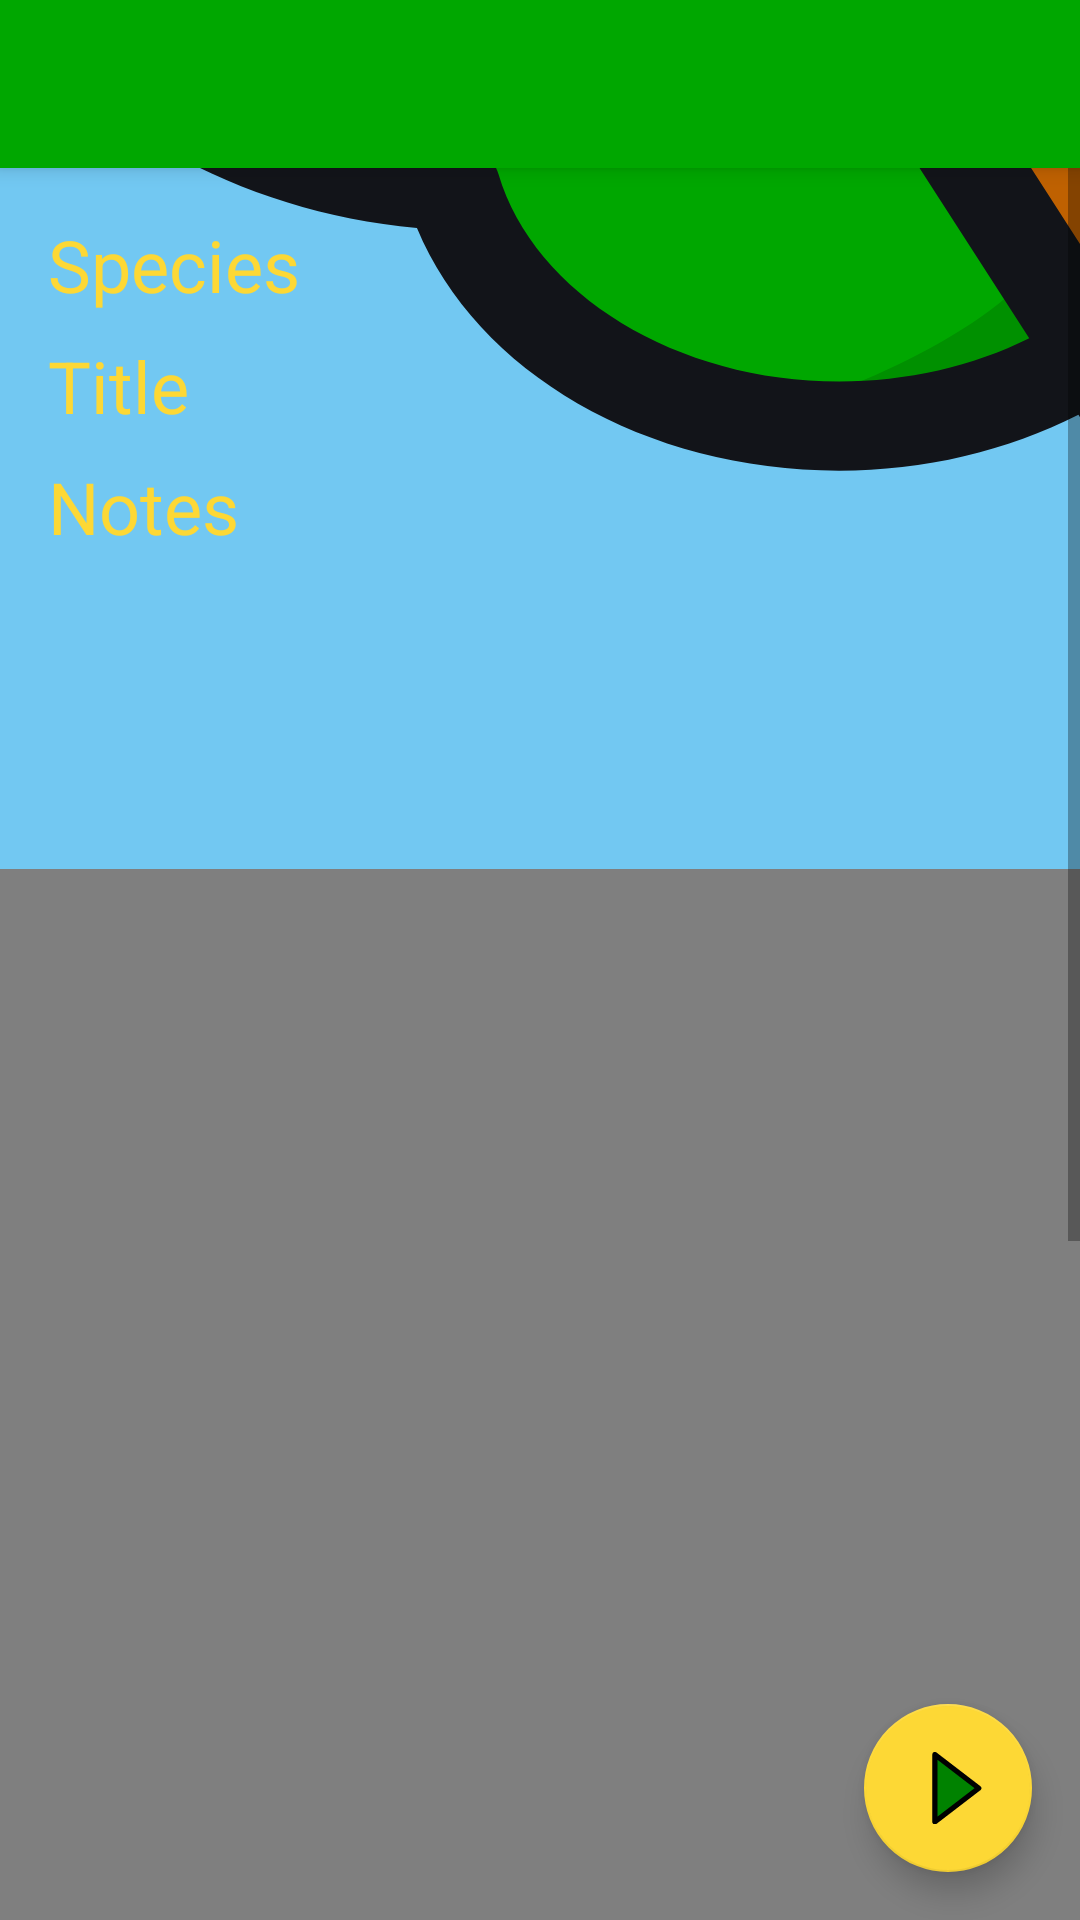

Screen size 1080px x 1920px. Icon name, then its center in pixels as point (x, y):
Play birdcall: point (948, 1788)
